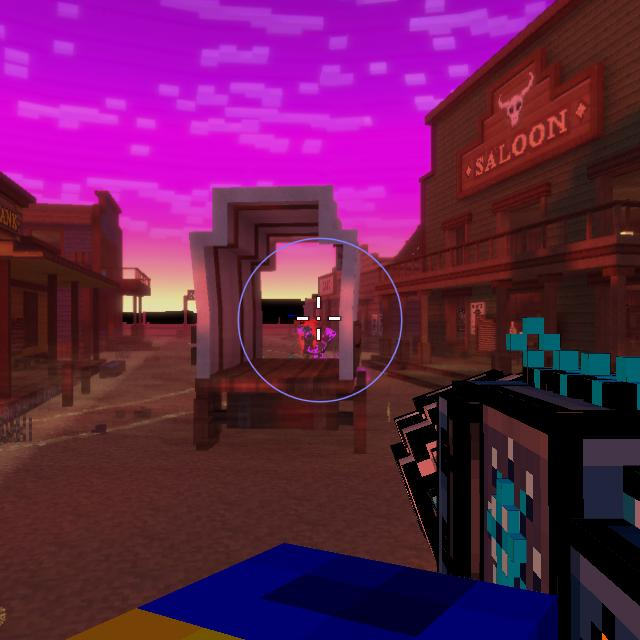Enemy: (301, 326, 317, 354)
